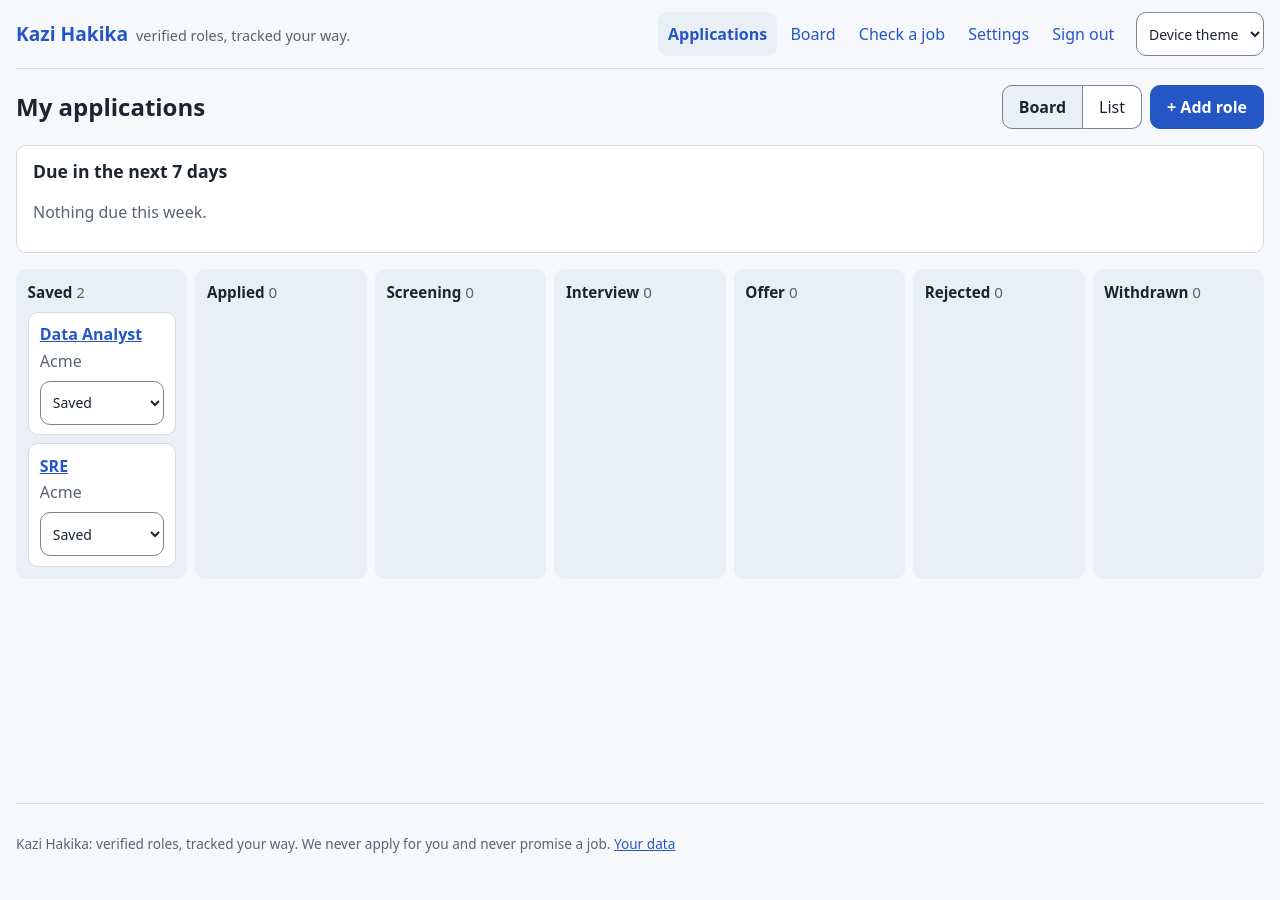
Scenario: tracker › a failed move does not undo another card that moved meanwhile
Select "Offer" in the dropdown named "Move Data Analyst to" below "Data Analyst" at (102, 403), box [40,381,164,425]
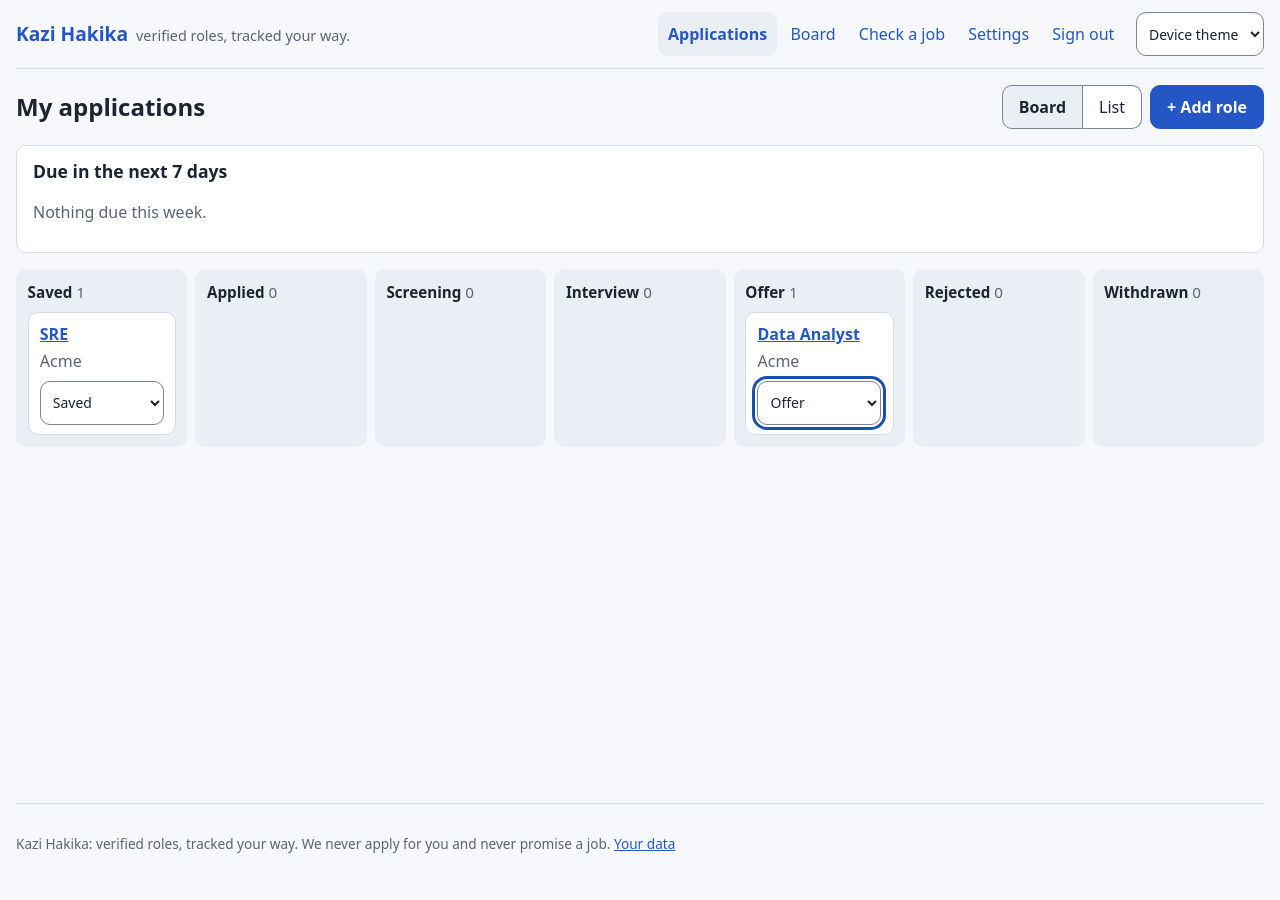
Select "Interview" in the dropdown named "Move SRE to" below "SRE" at (102, 403), box [40,381,164,425]
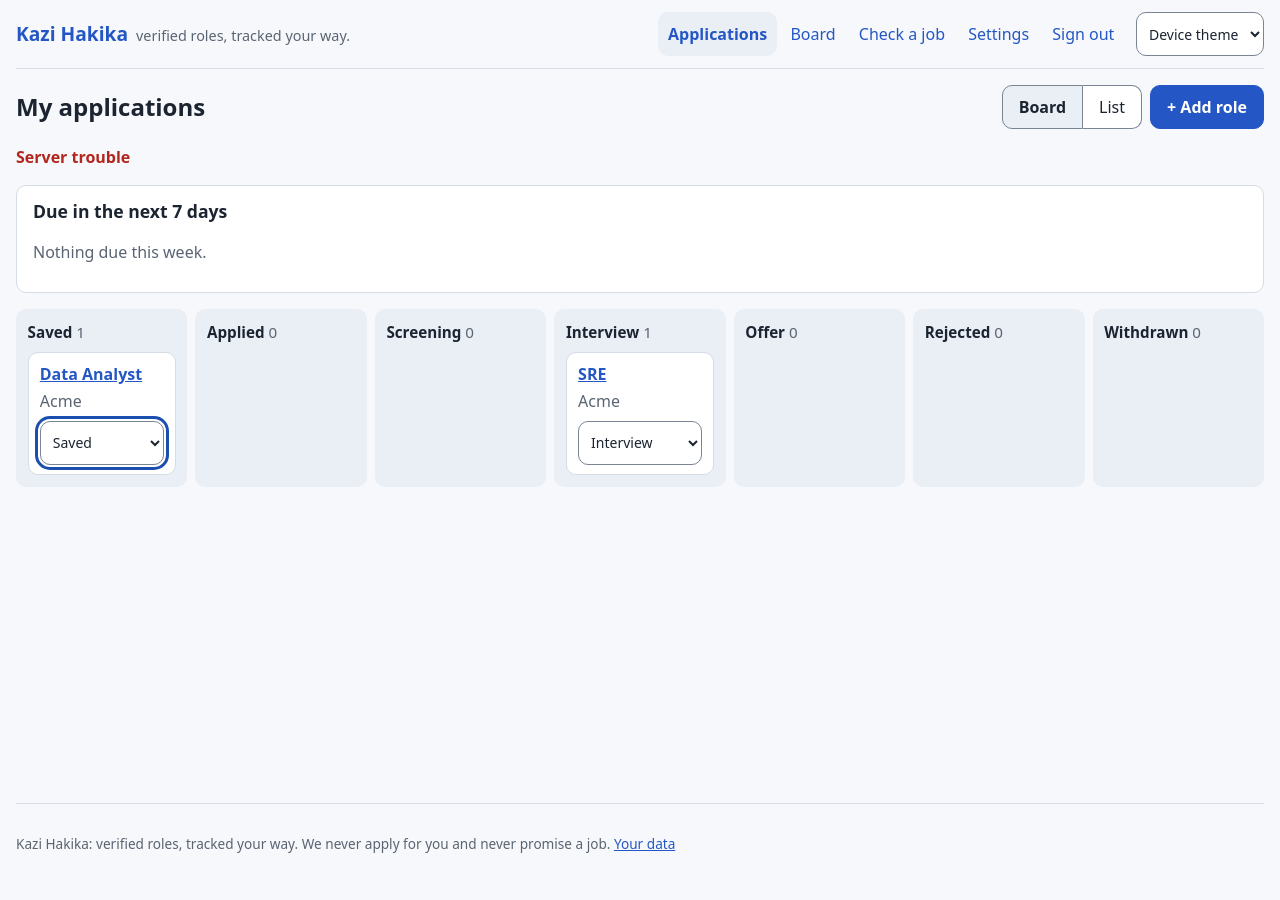
Expected: the message reads "Server trouble", [16,146,130,168]
Expected: the link "Data Analyst" is shown, [40,363,142,385]
Expected: the link "SRE" is shown, [578,363,606,385]
